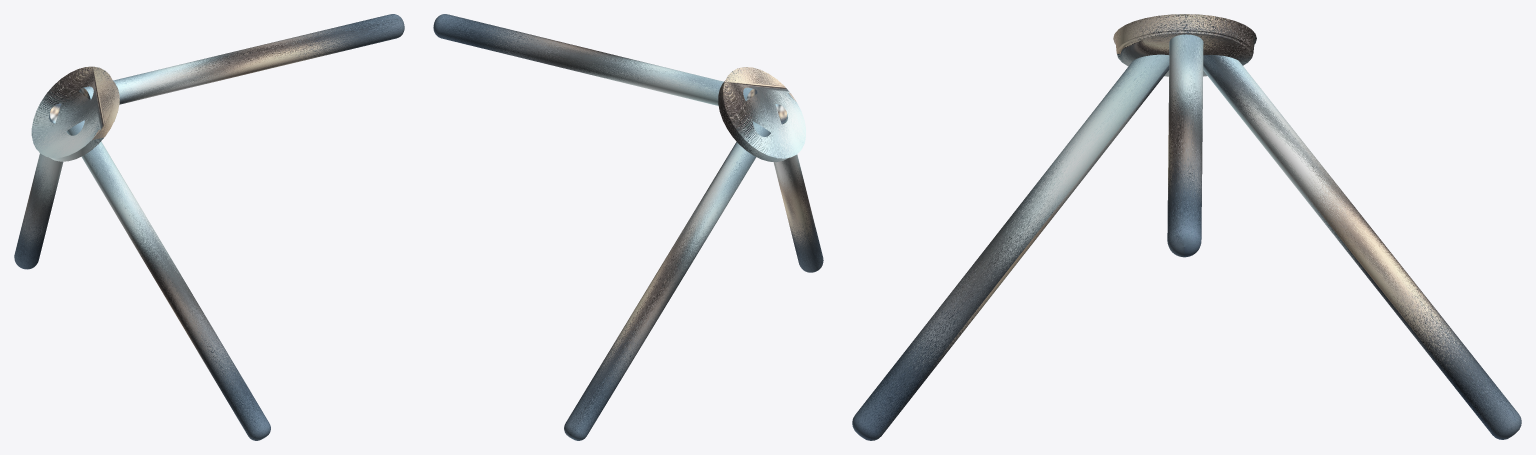
The model's file is torniquete_tubo.obj.
The picture shows the model from 3 angles, left to right: view 1: azimuth 30°, elevation 25°; view 2: azimuth 150°, elevation 25°; view 3: azimuth 270°, elevation 25°; orthographic projection. The views are drawn at different scales.
Visible parts, largest first — view 1: torniquete; view 2: torniquete; view 3: torniquete.
Boxes of the visible parts, x1=… form: torniquete: x1=14, y1=14, x2=404, y2=440; torniquete: x1=433, y1=14, x2=823, y2=440; torniquete: x1=852, y1=14, x2=1521, y2=440.
Size of the model in its own units: 62313 by 48489 by 73428.
Materials: 1 (1 with a texture image).
